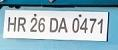0: (72, 17, 80, 34)
1: (97, 18, 104, 35)
2: (29, 16, 38, 33)
4: (80, 18, 88, 33)
6: (38, 17, 47, 33)
7: (88, 17, 97, 34)
A: (58, 16, 69, 33)
D: (49, 17, 59, 33)
H: (7, 16, 17, 32)
R: (17, 16, 27, 33)
